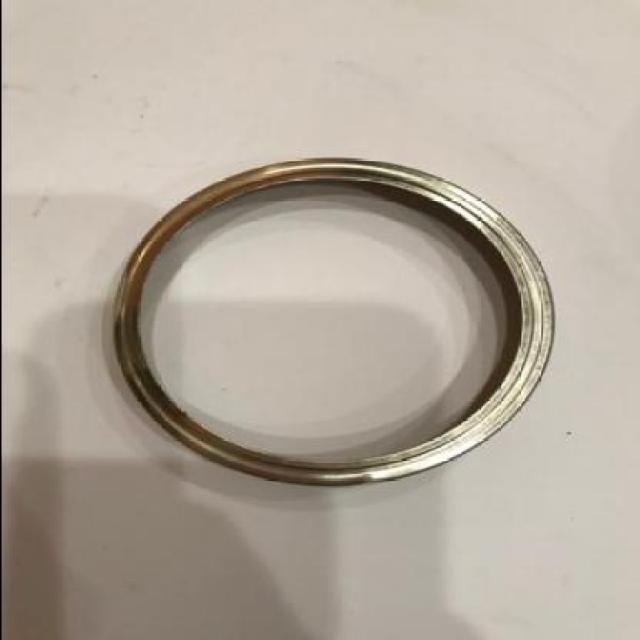METAL: (112, 155, 556, 487)
